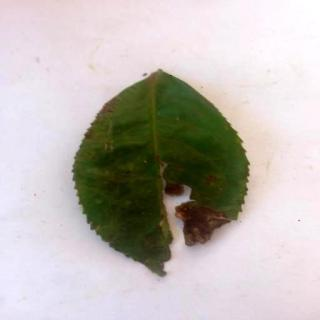Brown Blight: (74, 69, 252, 281)
